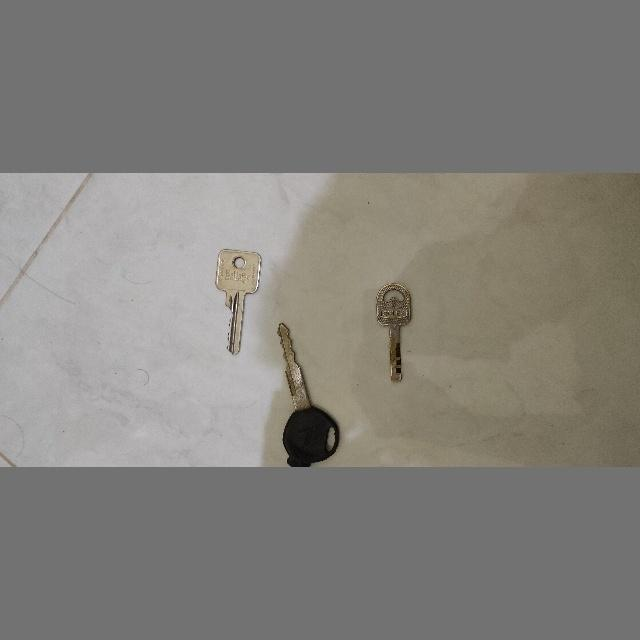Keys: (274, 318, 342, 466), (216, 245, 264, 359), (374, 280, 422, 388)
